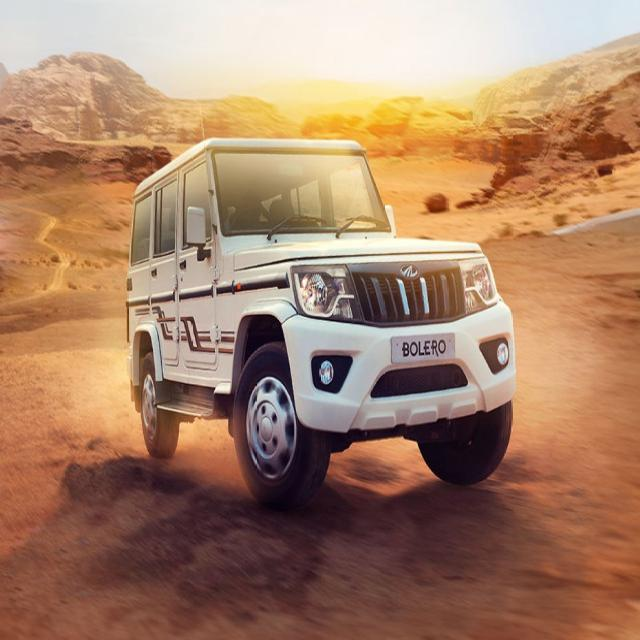light_vehicle: (130, 132, 518, 499)
